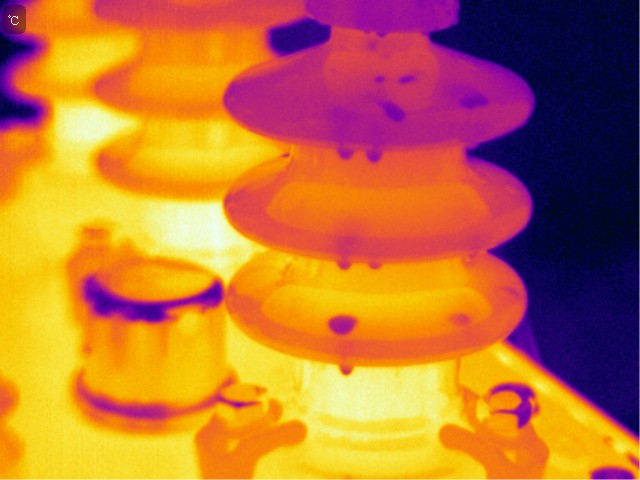Water: (323, 312, 360, 338), (373, 99, 410, 125), (461, 88, 494, 109), (444, 310, 473, 327), (333, 147, 358, 164), (335, 361, 357, 378), (366, 147, 384, 167), (334, 256, 355, 273), (366, 258, 386, 274), (375, 27, 389, 41)
